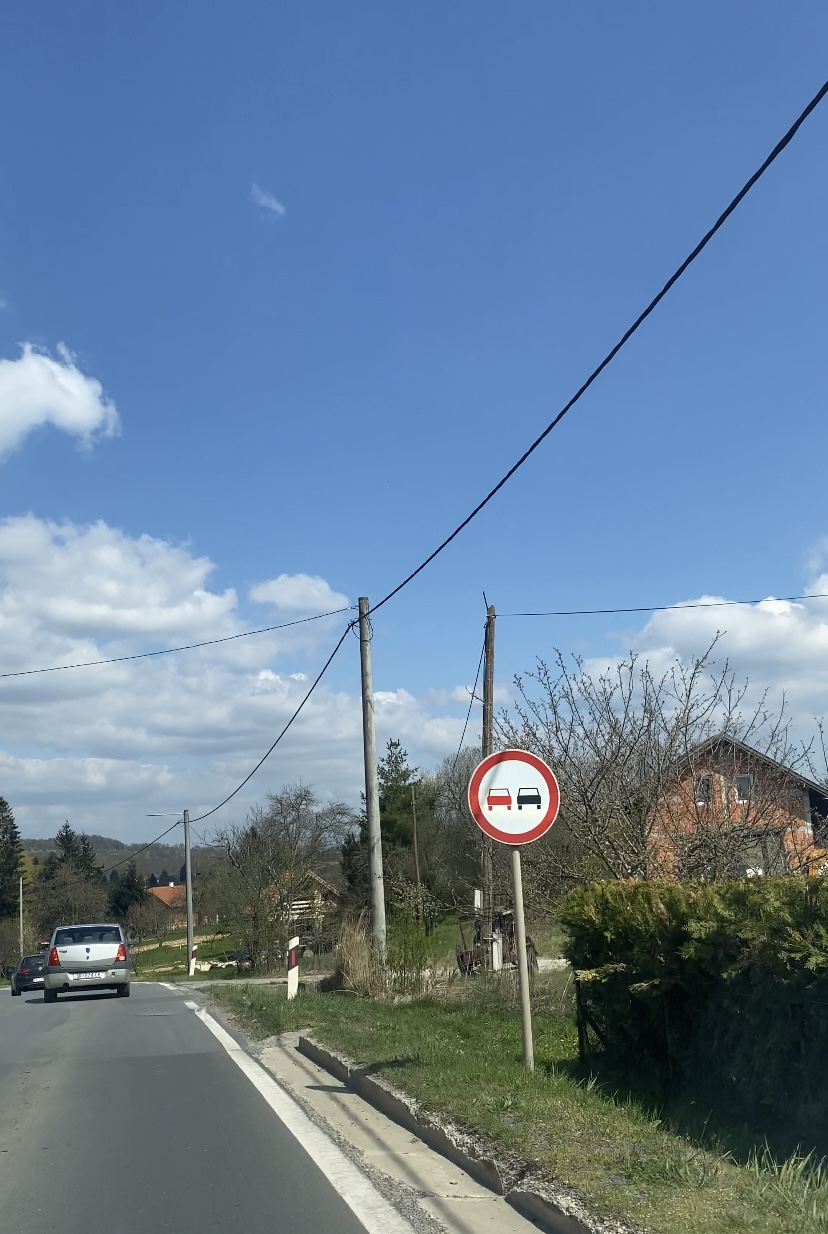Zabrana pretjecanja: (467, 749, 560, 846)
